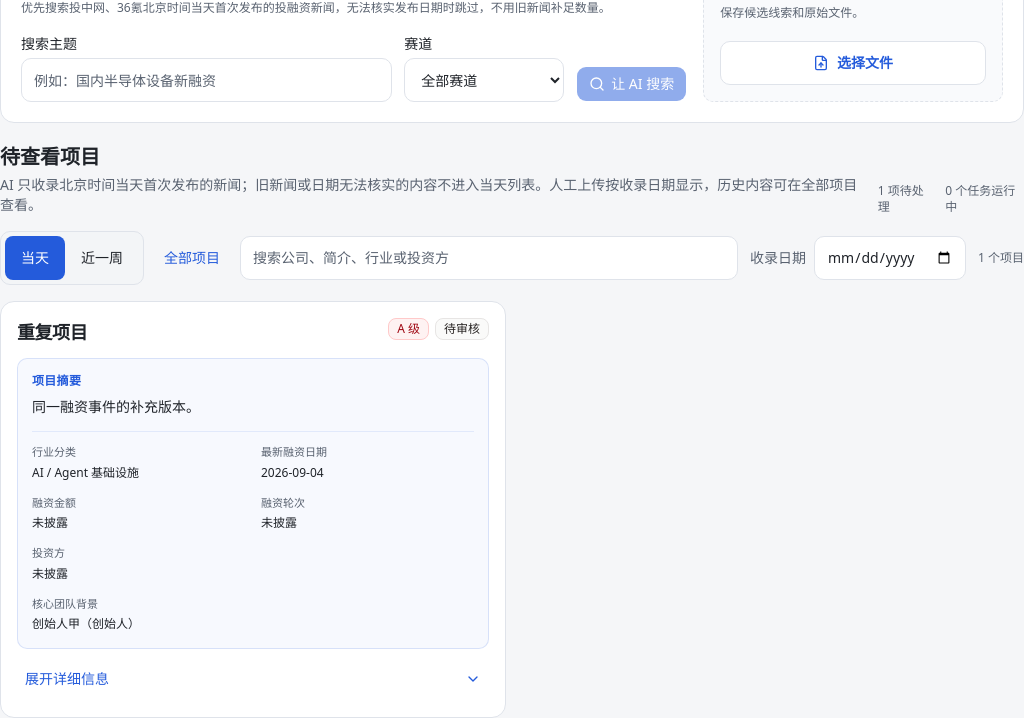
it: shows one card when the same comprehensive project signal arrives more than once
(page scrolled)
Expected: the number of headings "重复项目" is 1, [17,318,87,346]
Expected: the text "更完整版本的产品" is not shown
Click the button with aria-label "查看重复项目项目详情" at (67, 678), box [17,657,489,701]
(page scrolled)
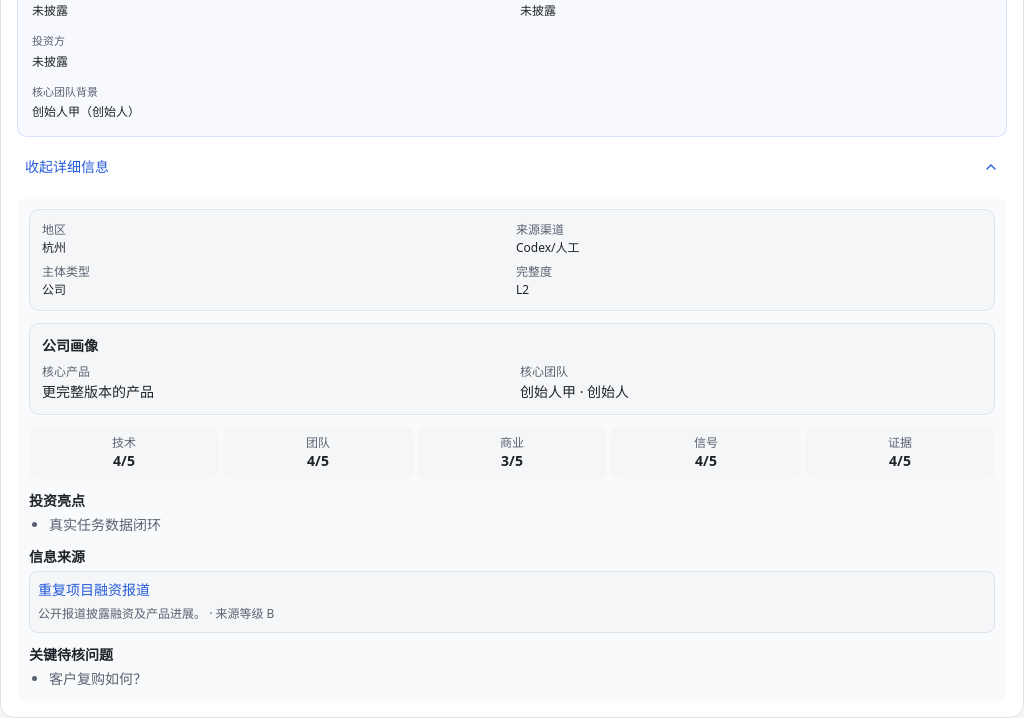
Expected: the text "更完整版本的产品" is shown, [42,382,154,401]
